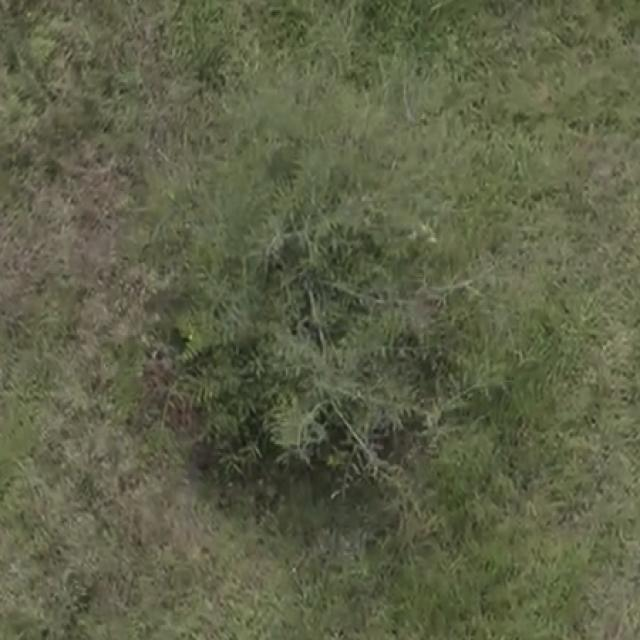notMangoTree: (171, 179, 457, 495)
